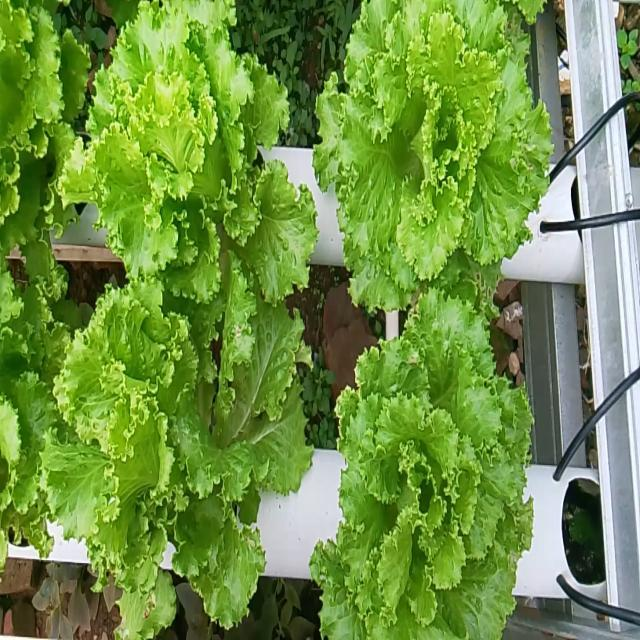Mature: (53, 271, 316, 628), (314, 268, 532, 628), (67, 7, 323, 311), (318, 1, 555, 311)
